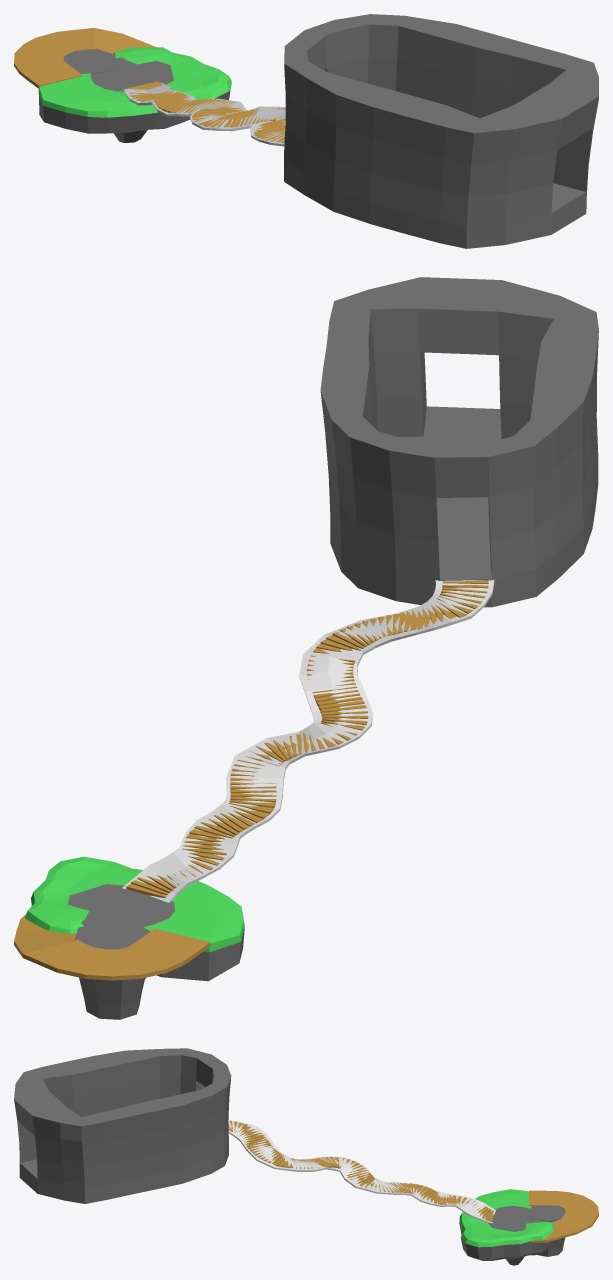
Rendered from spawn_center.glb.
The picture shows the model from 3 angles, top to bottom: view 1: azimuth 30°, elevation 25°; view 2: azimuth 150°, elevation 25°; view 3: azimuth 270°, elevation 25°; orthographic projection. The views are drawn at different scales.
Visible parts, largest first — view 1: CastleGate-col, GrassyCenterWrap-col, WoodenPlatformWrap-col, WonkyStairsMesh, WonkyStairs-col, SpawnCenter-col, StoneCylinder-col; view 2: CastleGate-col, WonkyStairs-col, WonkyStairsMesh, GrassyCenterWrap-col, WoodenPlatformWrap-col, StoneCylinder-col, SpawnCenter-col; view 3: CastleGate-col, GrassyCenterWrap-col, WonkyStairs-col, WonkyStairsMesh, WoodenPlatformWrap-col, SpawnCenter-col, StoneCylinder-col.
Part boxes in pixels (x1,y1,x2,y2): CastleGate-col: (284,14,598,248); GrassyCenterWrap-col: (38,47,231,133); WoodenPlatformWrap-col: (14,28,156,88); WonkyStairsMesh: (126,81,285,142); WonkyStairs-col: (120,82,285,146); SpawnCenter-col: (90,57,173,142); StoneCylinder-col: (63,48,117,73); CastleGate-col: (320,277,598,607); WonkyStairs-col: (122,580,494,902); WonkyStairsMesh: (126,580,488,898); GrassyCenterWrap-col: (25,856,244,981); WoodenPlatformWrap-col: (14,914,210,980); StoneCylinder-col: (74,920,150,1019); SpawnCenter-col: (67,884,174,978); CastleGate-col: (14,1048,231,1203); GrassyCenterWrap-col: (459,1189,553,1260); WonkyStairs-col: (228,1120,495,1223); WonkyStairsMesh: (228,1121,493,1221); WoodenPlatformWrap-col: (529,1190,598,1242); SpawnCenter-col: (488,1206,542,1265); StoneCylinder-col: (527,1205,565,1256).
Bounding box in the file's own units: 23.05 × 24.9 × 71.11.
